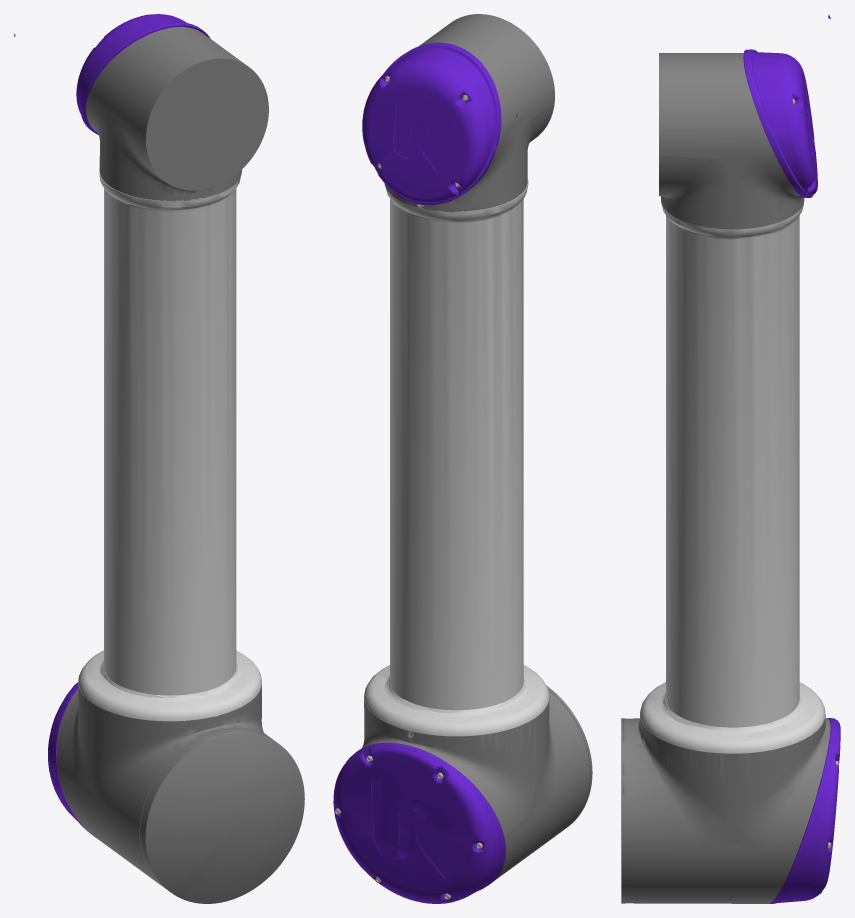
Rendered from upperarm.dae.
3 views of the same model, side by side, from view 1: azimuth 30°, elevation 25°; view 2: azimuth 150°, elevation 25°; view 3: azimuth 270°, elevation 25° (orthographic).
Visible parts, largest first — view 1: node-shape3-name, node-shape0-name, node-shape1-name; view 2: node-shape3-name, node-shape1-name, node-shape0-name; view 3: node-shape3-name, node-shape0-name, node-shape1-name.
Boxes of the visible parts, x1,y1,x2,y2 form: node-shape3-name: (78, 168, 261, 721); node-shape0-name: (56, 27, 304, 903); node-shape1-name: (14, 14, 210, 838); node-shape3-name: (364, 178, 549, 736); node-shape1-name: (333, 42, 517, 903); node-shape0-name: (362, 14, 592, 880); node-shape3-name: (640, 201, 824, 753); node-shape0-name: (621, 53, 830, 903); node-shape1-name: (743, 14, 840, 903).
Size of the model in its own units: 0.1767 by 0.1772 by 0.7479.
